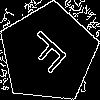F: (23, 28, 76, 81)
